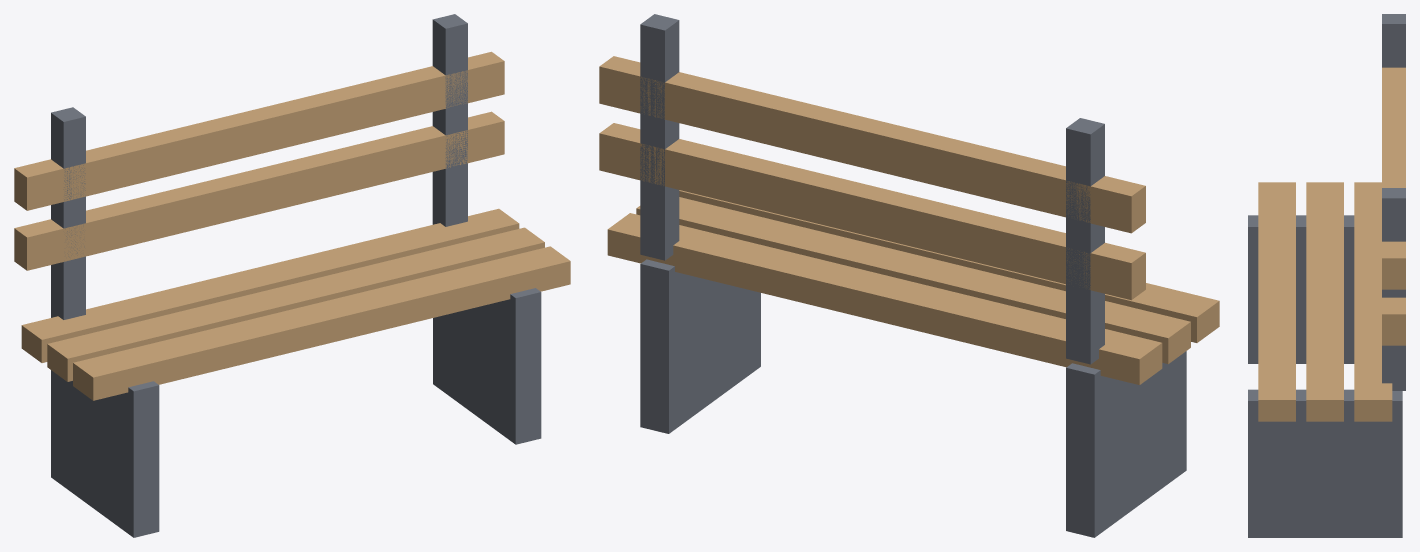
The model's file is bench.glb.
The picture shows the model from 3 angles, left to right: view 1: azimuth 30°, elevation 25°; view 2: azimuth 150°, elevation 25°; view 3: azimuth 270°, elevation 25°; orthographic projection. The views are drawn at different scales.
Parts seen in each view (by area): view 1: bench; view 2: bench; view 3: bench.
Part boxes in pixels (x1,y1,x2,y2): bench: [14, 14, 570, 537]; bench: [599, 14, 1219, 537]; bench: [1248, 14, 1405, 537].
Size of the model in its own units: 1.5 by 1.09 by 0.46.
